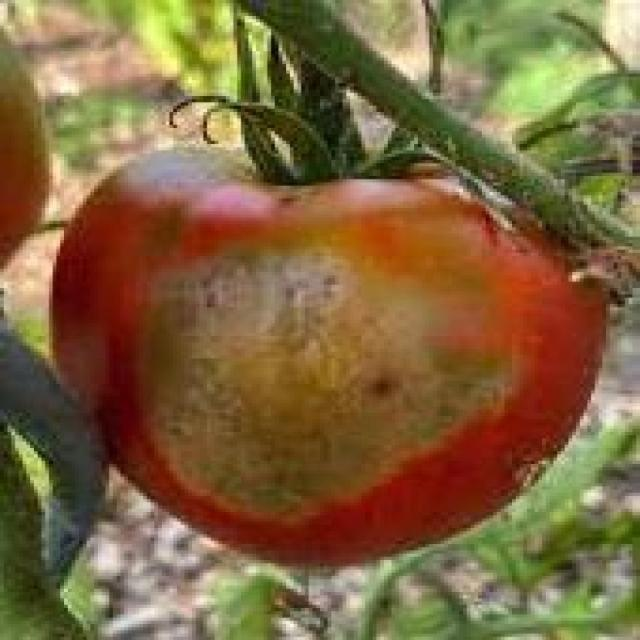Sunscald Fruit: (83, 144, 341, 340)
